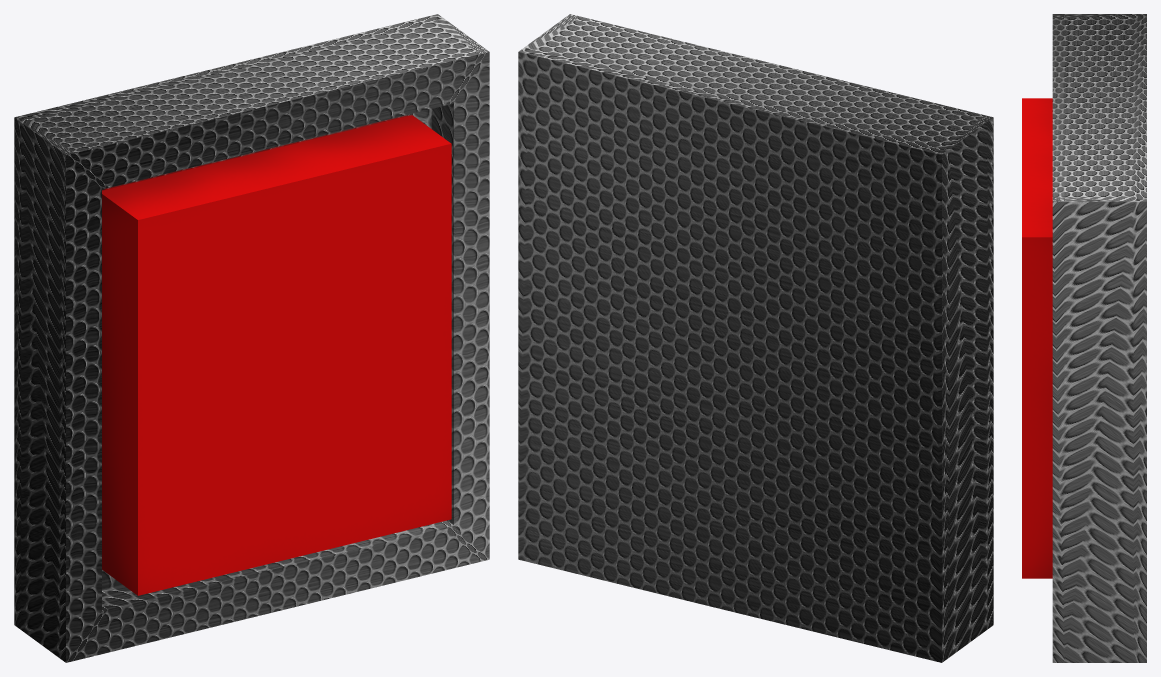
The model's file is RedPushButton.fbx.
3 views of the same model, side by side, from view 1: azimuth 30°, elevation 25°; view 2: azimuth 150°, elevation 25°; view 3: azimuth 270°, elevation 25° (orthographic). The views are drawn at different scales.
Visible parts, largest first — view 1: pCube1; view 2: pCube1; view 3: pCube1.
Boxes of the visible parts, <box> form: pCube1: <box>14,14,489,662</box>; pCube1: <box>518,14,993,662</box>; pCube1: <box>1022,14,1146,662</box>.
Size of the model in its own units: 4.81 by 5.51 by 1.35.
